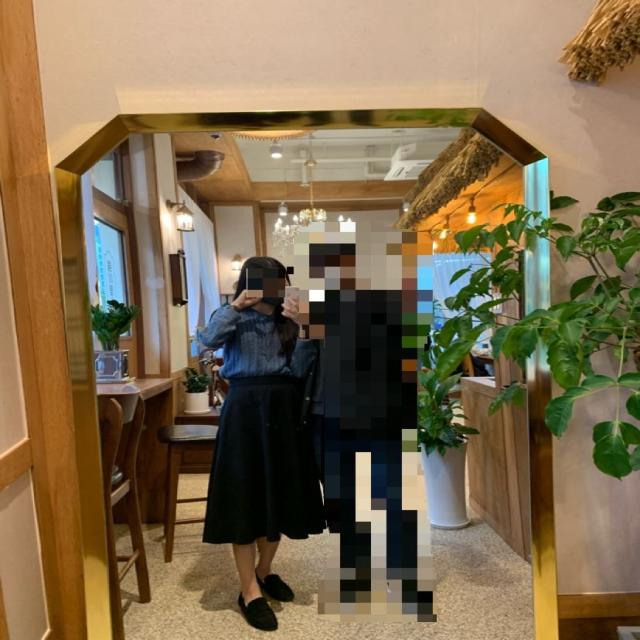skirt: (205, 372, 327, 546)
sweater: (200, 302, 314, 381)
